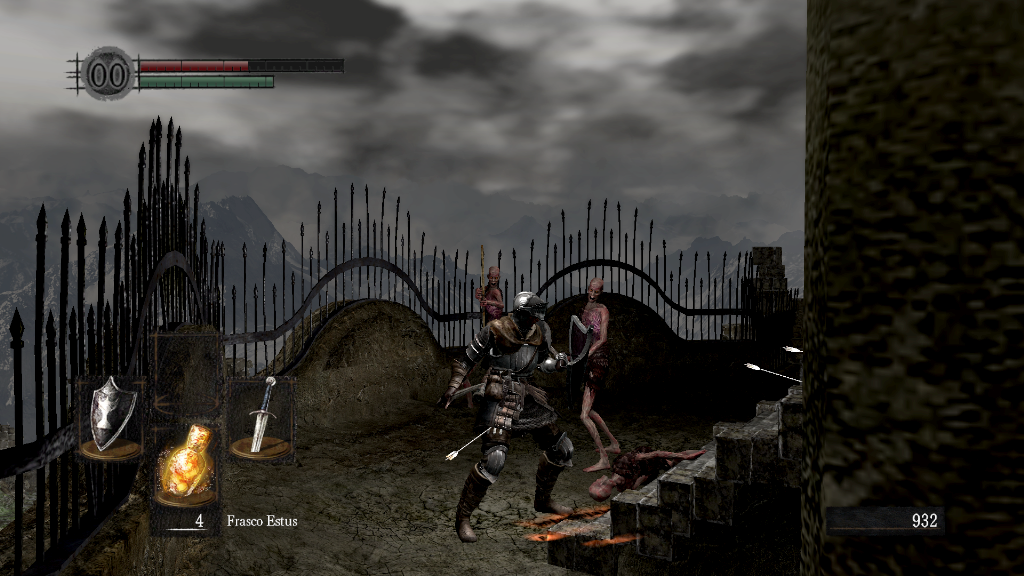health: (138, 58, 343, 71)
hollow: (574, 277, 625, 476), (463, 245, 508, 422)
humanity: (80, 45, 136, 102)
player: (440, 292, 592, 544)
souls: (825, 506, 945, 536)
stamina: (138, 74, 274, 88)
